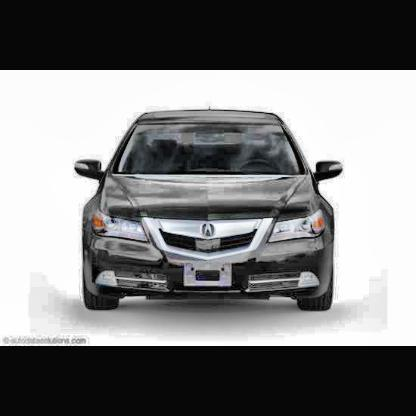Acura RL Sedan 2012: (74, 107, 344, 316)
